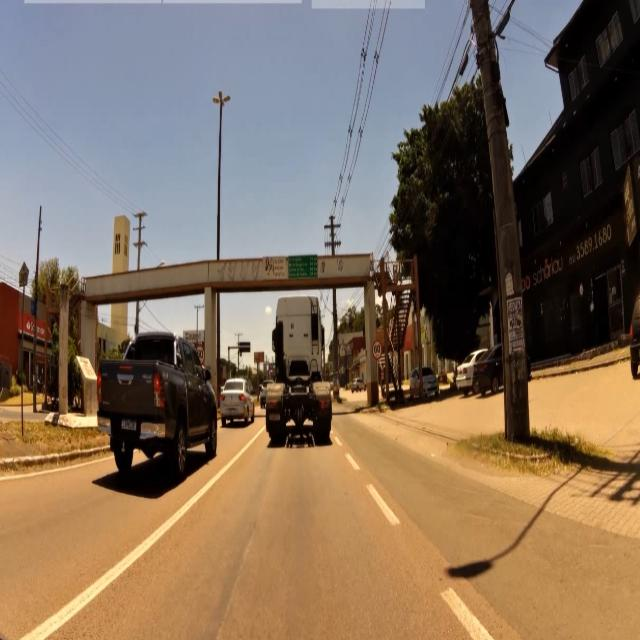I-4: (288, 256, 318, 278)
R-19: (372, 339, 382, 362)
